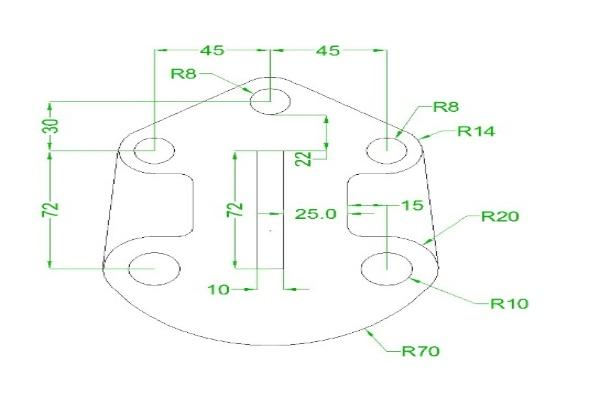dimensions: (479, 204, 522, 232), (292, 204, 338, 226), (400, 342, 443, 364), (488, 296, 532, 316), (429, 95, 464, 120), (456, 122, 498, 142), (163, 62, 199, 84), (195, 39, 228, 61), (314, 40, 342, 64), (37, 116, 62, 138), (400, 194, 426, 215), (294, 145, 315, 171), (220, 200, 246, 221), (37, 198, 61, 220), (204, 282, 231, 298)
